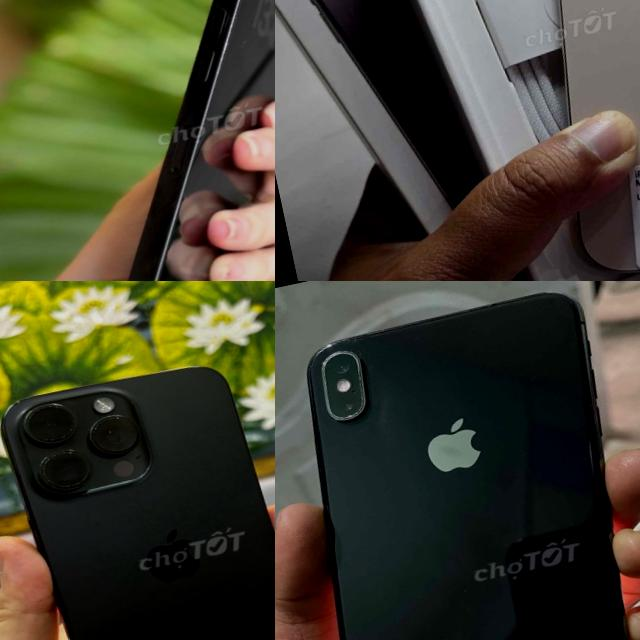gen_14: (9, 0, 275, 281)
gen_15: (0, 347, 275, 640)
gen_16: (477, 0, 640, 281)
gen_x_xs: (309, 293, 628, 640)
